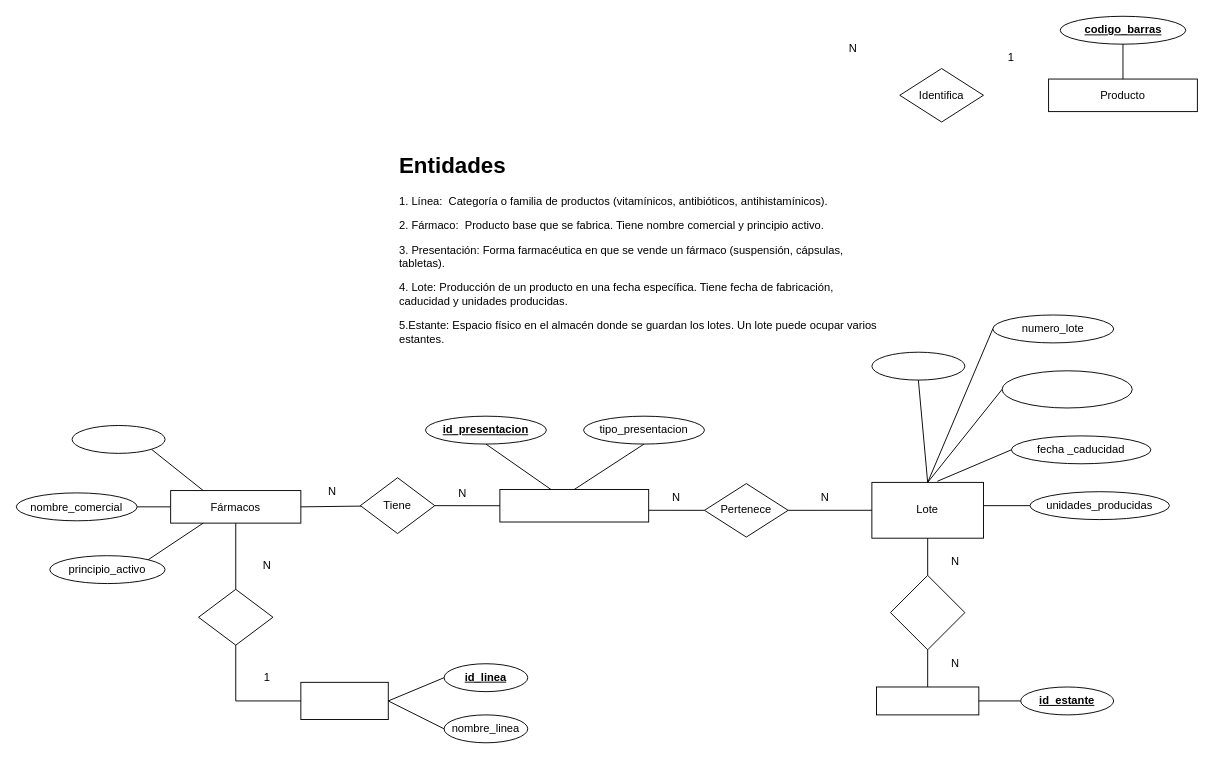
This 1214x760 diagram has some shape labels left out. Each missing label, with the centre of its shape:
Almacena: the point at 927,612
Clasifica: the point at 235,616
estante: the point at 927,700
fecha_fabricacion: the point at 1066,389
id_farmaco: the point at 118,439
id_lote: the point at 918,365
Linea: the point at 344,700
Presentacion: the point at 574,505
